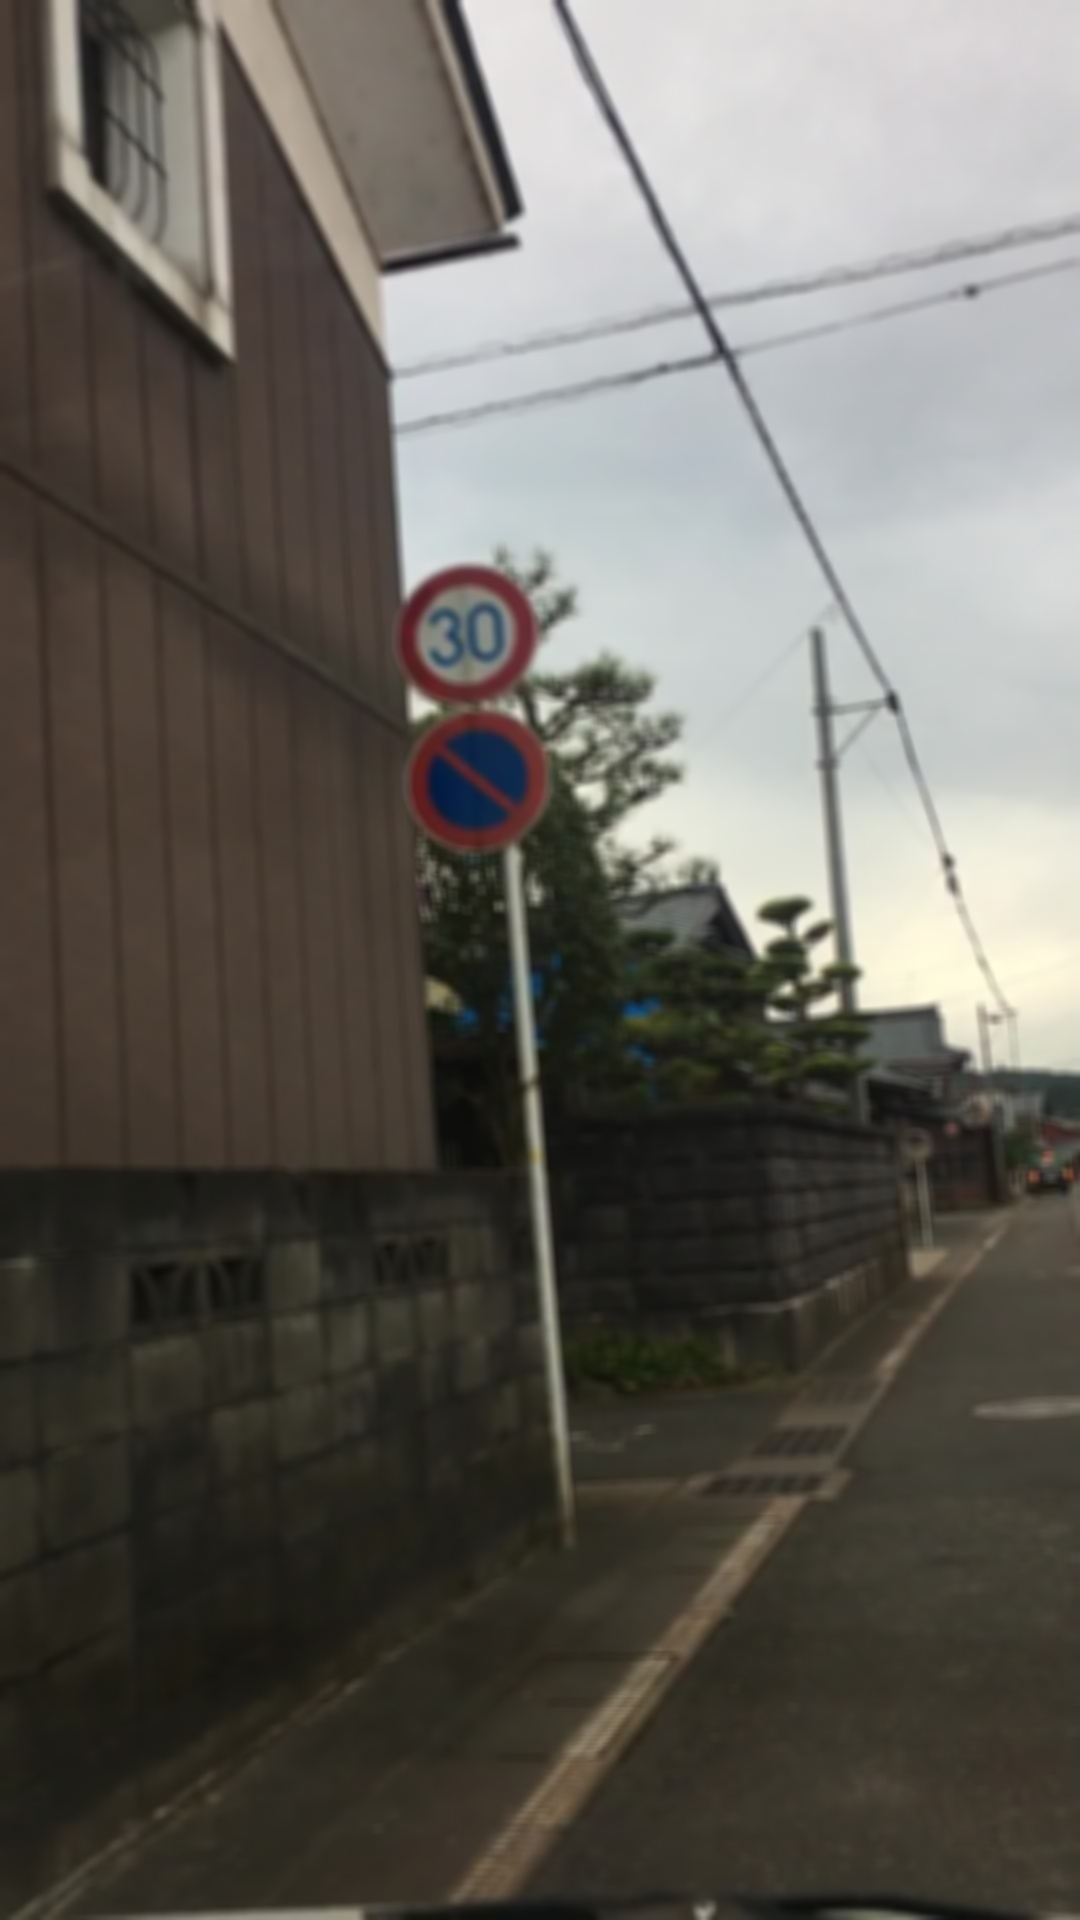Prohibition_sign: (400, 712, 562, 843)
Speed_sign: (400, 568, 534, 698)
